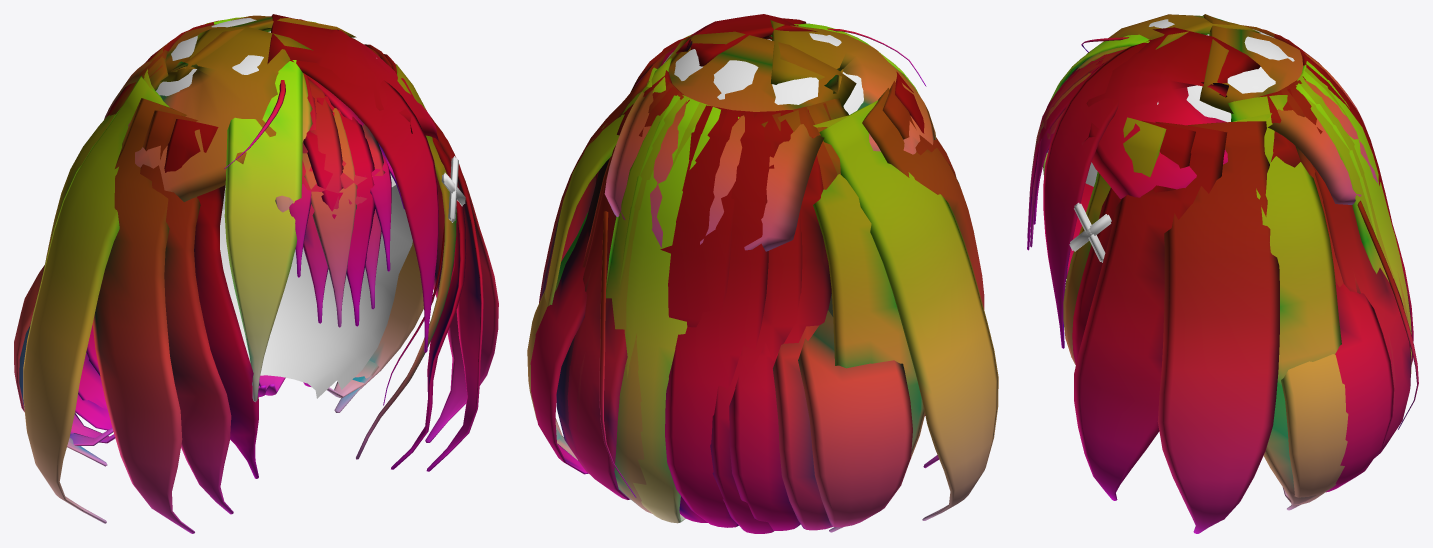
File: hair_bob_01_test.fbx
3 renders of one model, left to right at view 1: azimuth 30°, elevation 25°; view 2: azimuth 150°, elevation 25°; view 3: azimuth 270°, elevation 25°, orthographic. The views are drawn at different scales.
Parts seen in each view (by area): view 1: hair_bob_01__Side_R, hair_bob_01__Bangs, hair_bob_01__Crown, hair_bob_01__Side_L, hair_bob_01__Scalp, hair_bob_01__Back, hair_bob_01__Flyaway, acc_head_hairclip_x_01; view 2: hair_bob_01__Back, hair_bob_01__Side_R, hair_bob_01__Crown, hair_bob_01__Side_L, hair_bob_01__Scalp, hair_bob_01__Flyaway; view 3: hair_bob_01__Side_L, hair_bob_01__Back, hair_bob_01__Crown, hair_bob_01__Bangs, hair_bob_01__Scalp, hair_bob_01__Flyaway, acc_head_hairclip_x_01.
Part boxes in pixels (<box>): hair_bob_01__Side_R: <box>23,69,258,533</box>; hair_bob_01__Bangs: <box>224,59,438,401</box>; hair_bob_01__Crown: <box>104,14,438,201</box>; hair_bob_01__Side_L: <box>334,38,498,471</box>; hair_bob_01__Scalp: <box>156,18,412,398</box>; hair_bob_01__Back: <box>14,16,378,445</box>; hair_bob_01__Flyaway: <box>224,80,444,405</box>; acc_head_hairclip_x_01: <box>441,156,465,222</box>; hair_bob_01__Back: <box>527,58,912,533</box>; hair_bob_01__Side_R: <box>813,71,998,532</box>; hair_bob_01__Crown: <box>604,14,936,251</box>; hair_bob_01__Side_L: <box>539,34,692,439</box>; hair_bob_01__Scalp: <box>663,33,863,114</box>; hair_bob_01__Flyaway: <box>599,28,926,497</box>; hair_bob_01__Side_L: <box>1063,113,1341,533</box>; hair_bob_01__Back: <box>1228,25,1413,505</box>; hair_bob_01__Crown: <box>1077,14,1378,204</box>; hair_bob_01__Bangs: <box>1027,34,1150,348</box>; hair_bob_01__Scalp: <box>1085,19,1294,186</box>; hair_bob_01__Flyaway: <box>1081,37,1418,429</box>; acc_head_hairclip_x_01: <box>1069,202,1111,262</box>.
Size of the model in its own units: 49.48 by 49.52 by 40.52.
